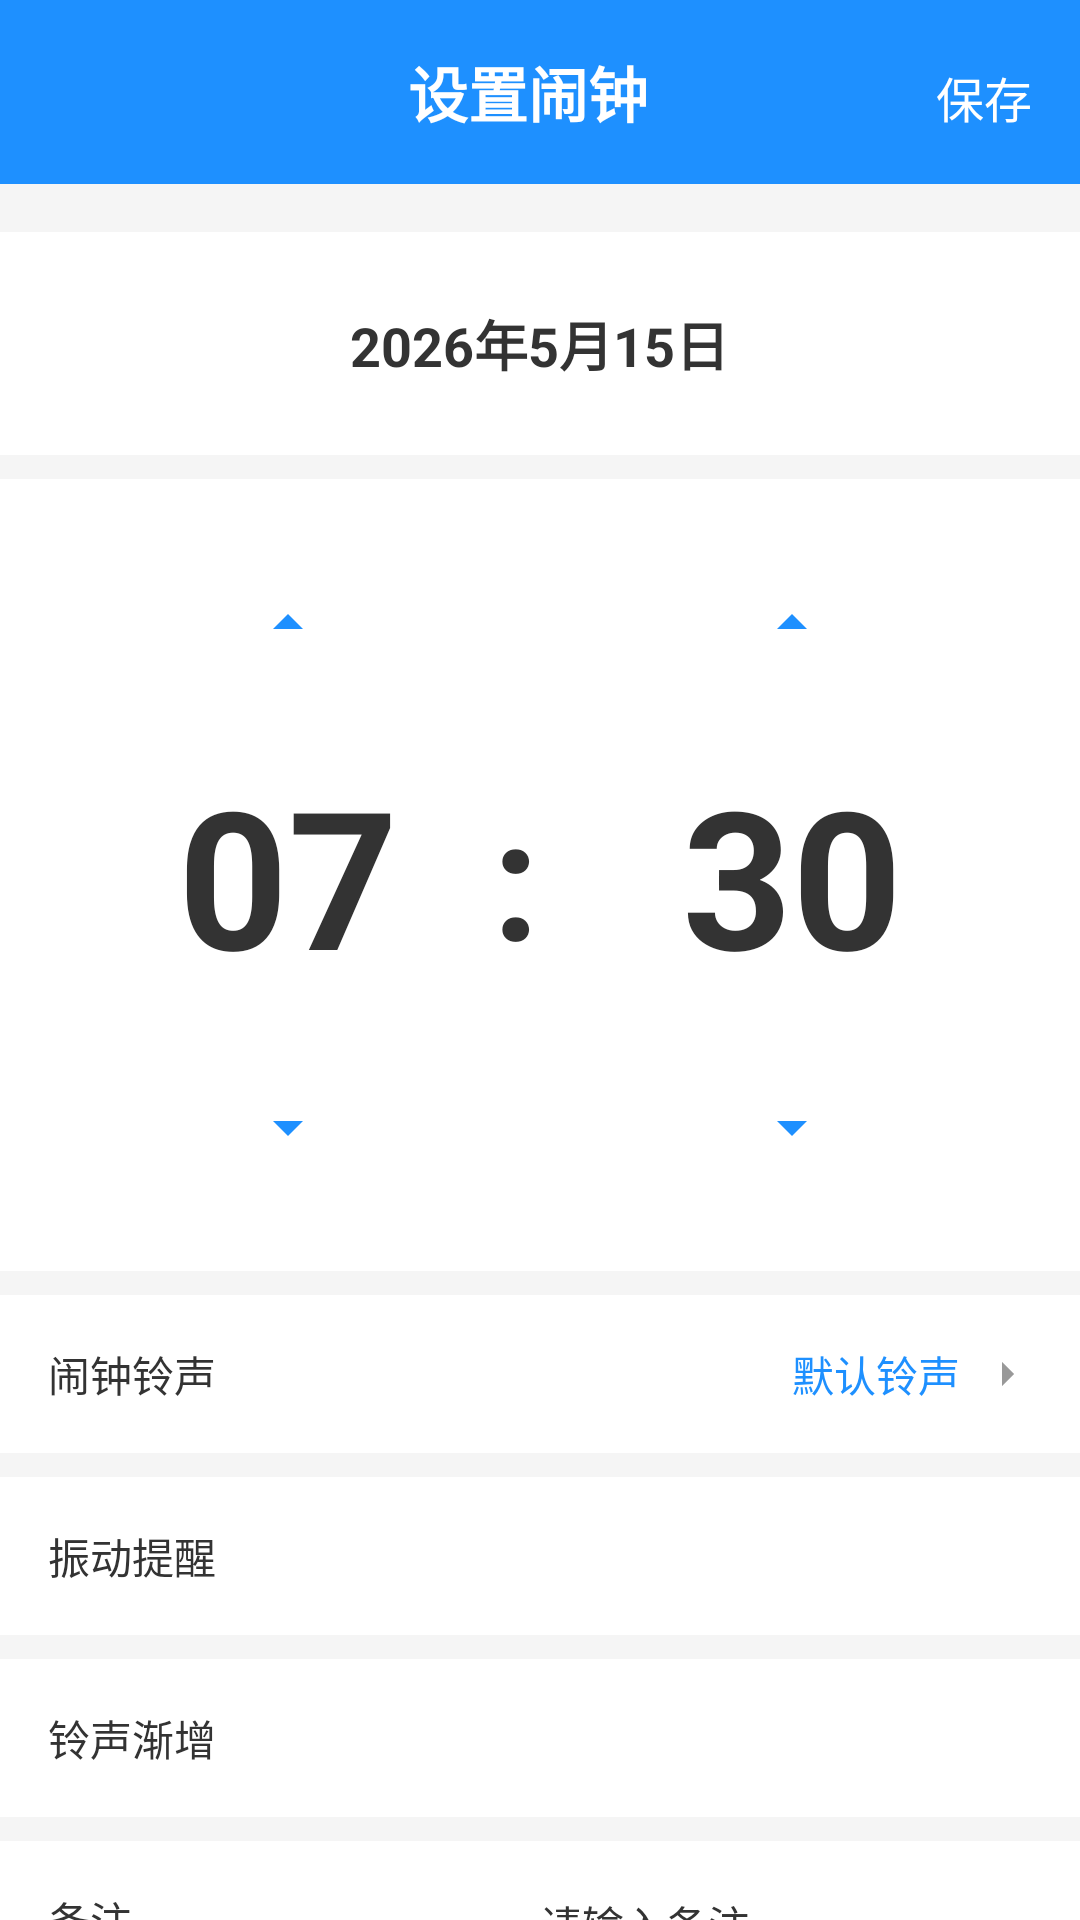

Where icons sit on this 1080×1920 app screen, as (x1, y1, x2, y2):
arrow down: (273, 1121, 303, 1136), (777, 1121, 807, 1136)
arrow right: (1002, 1362, 1014, 1386)
arrow up: (273, 614, 303, 629), (777, 614, 807, 629)
